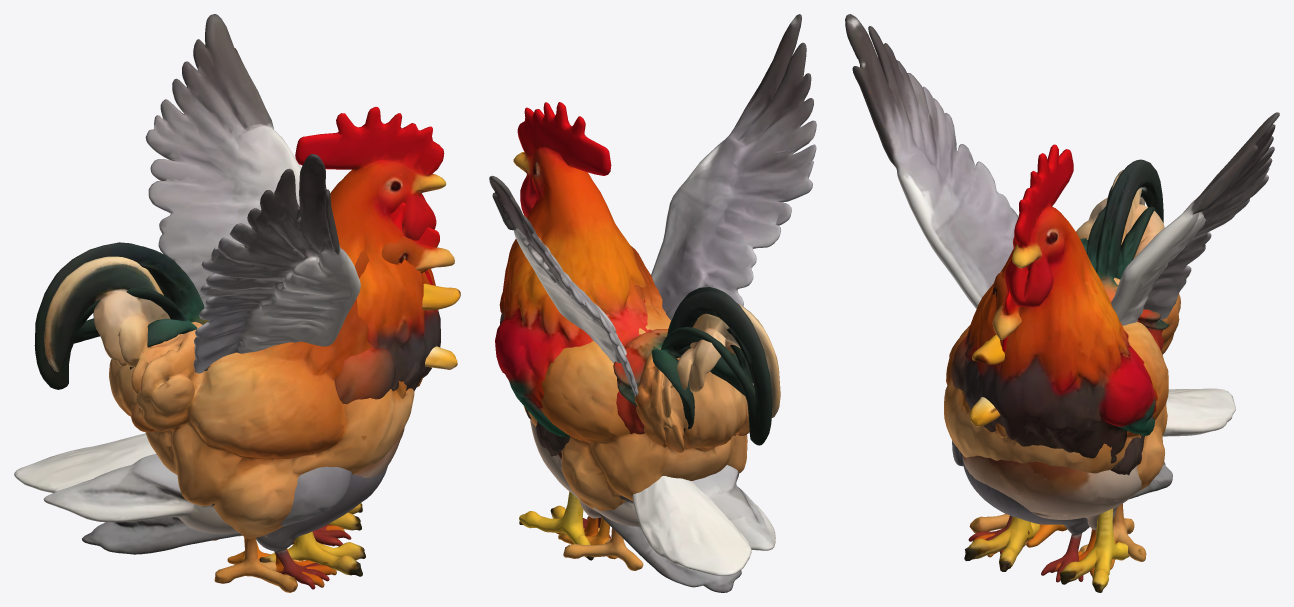
File: oiseaux.glb
3 views of the same model, side by side, from view 1: azimuth 30°, elevation 25°; view 2: azimuth 150°, elevation 25°; view 3: azimuth 270°, elevation 25° (orthographic). The views are drawn at different scales.
Parts seen in each view (by area): view 1: poule, mouette, coq, pigeon, canard; view 2: coq, mouette, poule, canard, pigeon; view 3: coq, mouette, poule, canard, pigeon.
Part boxes in pixels (left/top/right/bottom): poule: left=44, top=202, right=454, bottom=592; mouette: left=14, top=14, right=457, bottom=575; coq: left=34, top=107, right=446, bottom=576; pigeon: left=82, top=466, right=387, bottom=589; canard: left=43, top=283, right=460, bottom=587; coq: left=495, top=102, right=772, bottom=560; mouette: left=489, top=14, right=816, bottom=575; poule: left=523, top=215, right=780, bottom=570; canard: left=530, top=420, right=775, bottom=550; pigeon: left=582, top=511, right=741, bottom=592; coq: left=950, top=144, right=1169, bottom=592; mouette: left=845, top=14, right=1279, bottom=569; poule: left=944, top=170, right=1180, bottom=561; canard: left=962, top=335, right=1141, bottom=577; pigeon: left=952, top=440, right=1172, bottom=582.
Size of the model in its own units: 0.4102 by 0.57 by 0.4488.
1 material, 1 textured.
